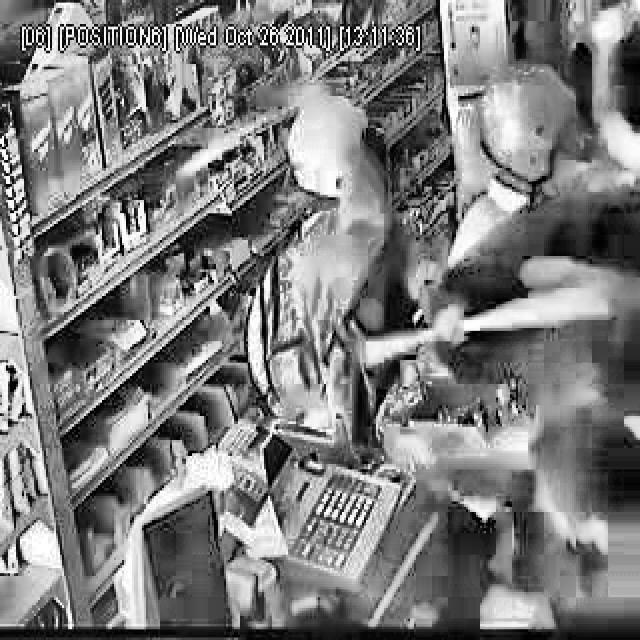robbery: (173, 90, 466, 480), (443, 73, 635, 360)
